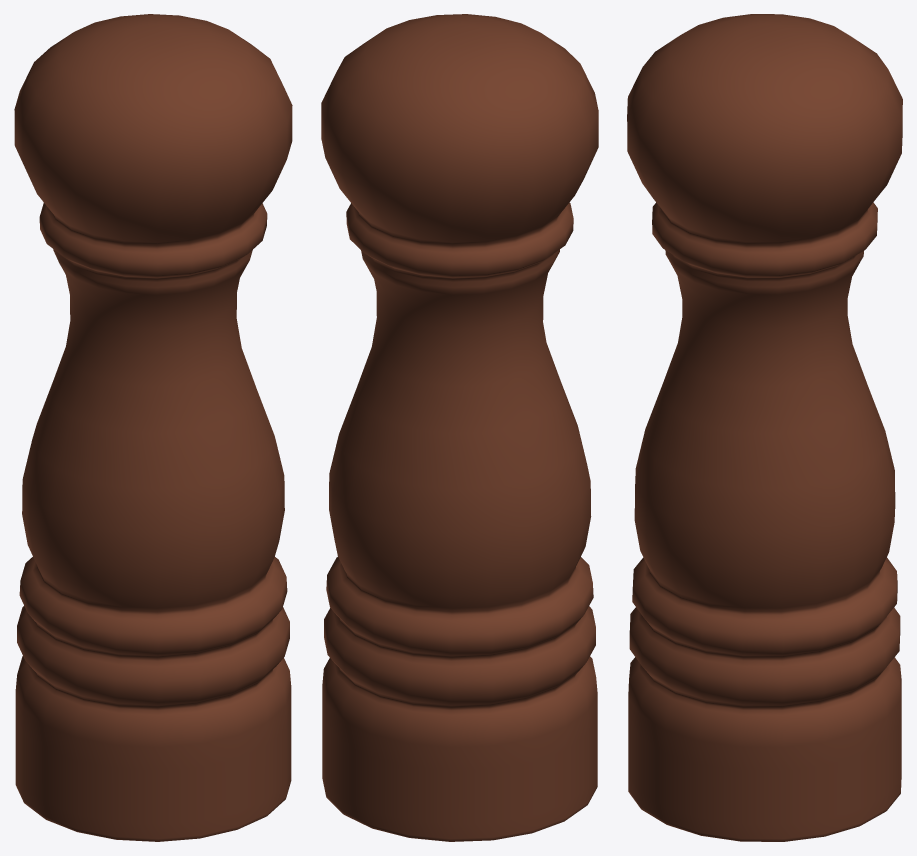
Rendered from Tool_Salt.fbx.
The picture shows the model from 3 angles, left to right: view 1: azimuth 30°, elevation 25°; view 2: azimuth 150°, elevation 25°; view 3: azimuth 270°, elevation 25°; orthographic projection.
Visible parts, largest first — view 1: Tool_Common_Salt; view 2: Tool_Common_Salt; view 3: Tool_Common_Salt.
Part boxes in pixels (x1=…): Tool_Common_Salt: x1=14, y1=14, x2=292, y2=841; Tool_Common_Salt: x1=321, y1=14, x2=598, y2=841; Tool_Common_Salt: x1=627, y1=14, x2=902, y2=841.
Size of the model in its own units: 7.8 by 23.37 by 7.8.
